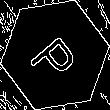P_NE: (26, 25, 84, 85)
